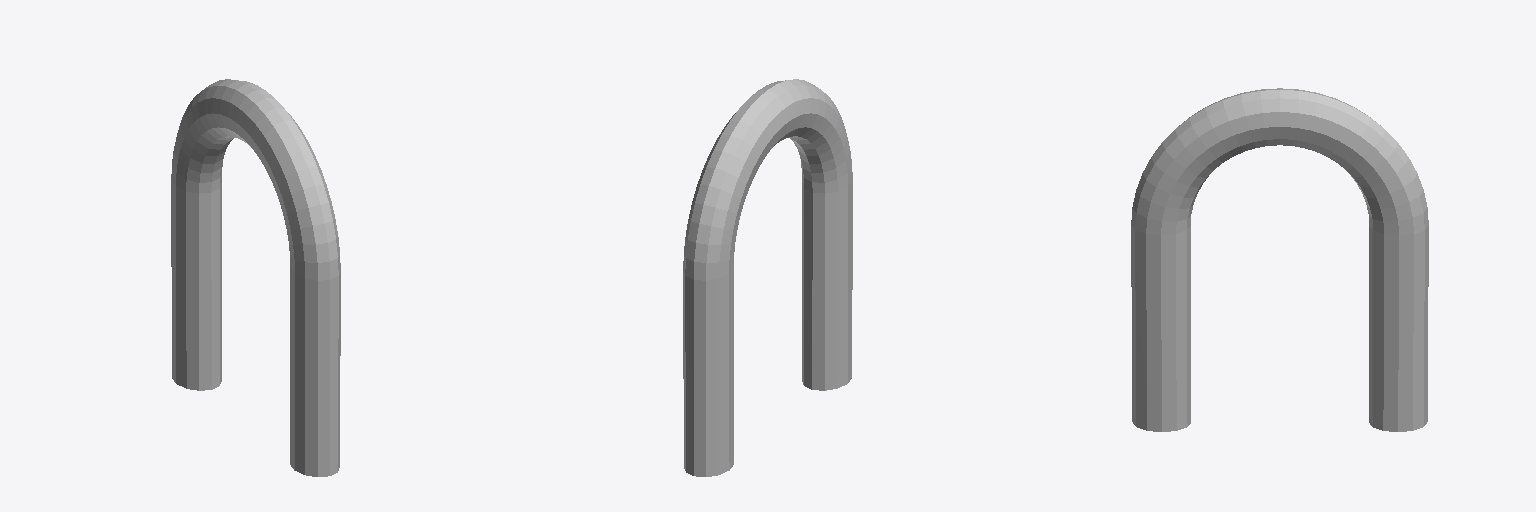
File: hedgeloop.obj
3 views of the same model, side by side, from view 1: azimuth 30°, elevation 25°; view 2: azimuth 150°, elevation 25°; view 3: azimuth 270°, elevation 25° (orthographic).
Parts seen in each view (by area): view 1: gardenheadges; view 2: gardenheadges; view 3: gardenheadges.
Boxes of the visible parts, <box> form: gardenheadges: <box>171,79,340,476</box>; gardenheadges: <box>683,79,852,476</box>; gardenheadges: <box>1131,88,1428,431</box>.
Bounding box in the file's own units: 1.14 × 8.82 × 7.16.